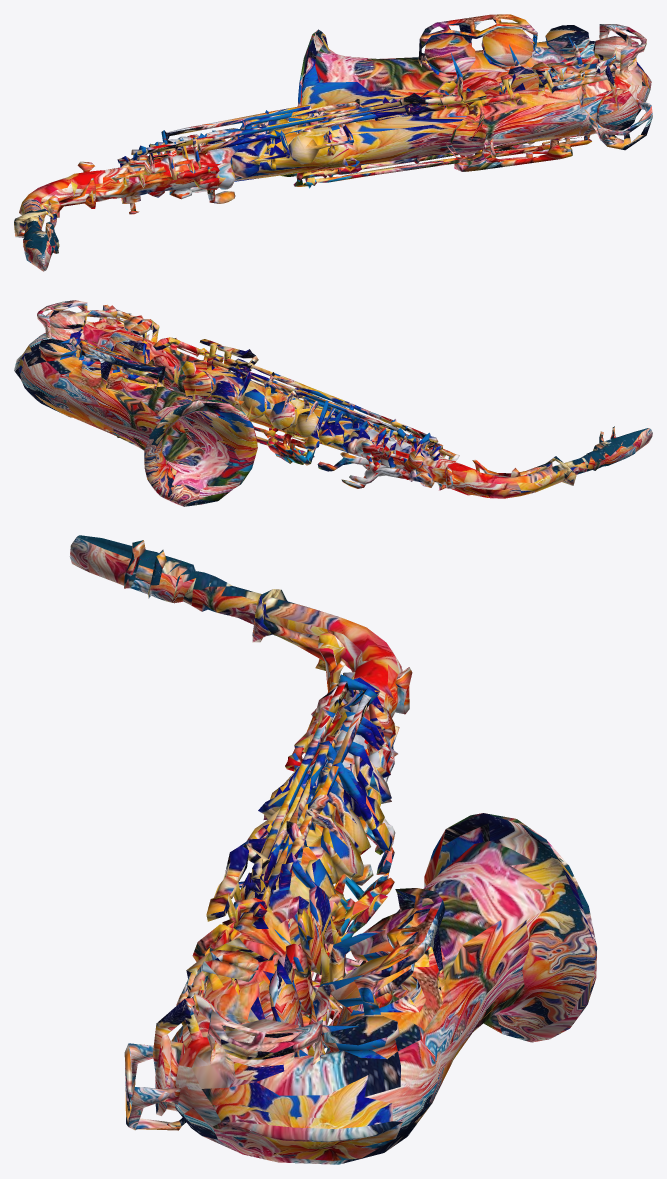
Rendered from si_nmaahc_alto-saxophone-owned-and-played-by-charlie-parker.glb.
The picture shows the model from 3 angles, top to bottom: view 1: azimuth 30°, elevation 25°; view 2: azimuth 150°, elevation 25°; view 3: azimuth 270°, elevation 25°; orthographic projection. The views are drawn at different scales.
Visible parts, largest first — view 1: A; view 2: A; view 3: A.
Boxes of the visible parts, <box> form: A: <box>14,14,652,271</box>; A: <box>14,300,652,506</box>; A: <box>69,535,597,1164</box>.
Bounding box in the file's own units: 2 × 0.3659 × 0.7986.
1 material, 1 textured.
